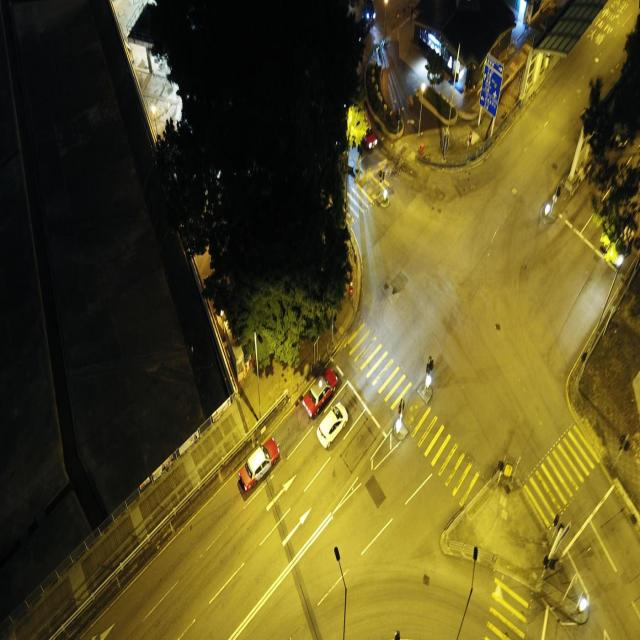car: (238, 436, 280, 492), (301, 366, 338, 419), (316, 401, 348, 449)
tree: (136, 0, 371, 376), (578, 7, 640, 256), (345, 101, 371, 151), (424, 48, 447, 88)
